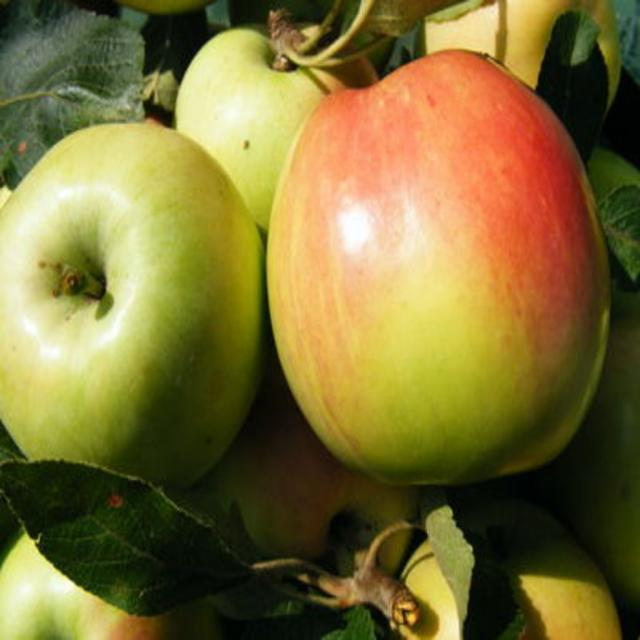Apple: (264, 46, 612, 488), (0, 124, 263, 482), (210, 392, 413, 609), (179, 17, 376, 226), (0, 510, 225, 640)
